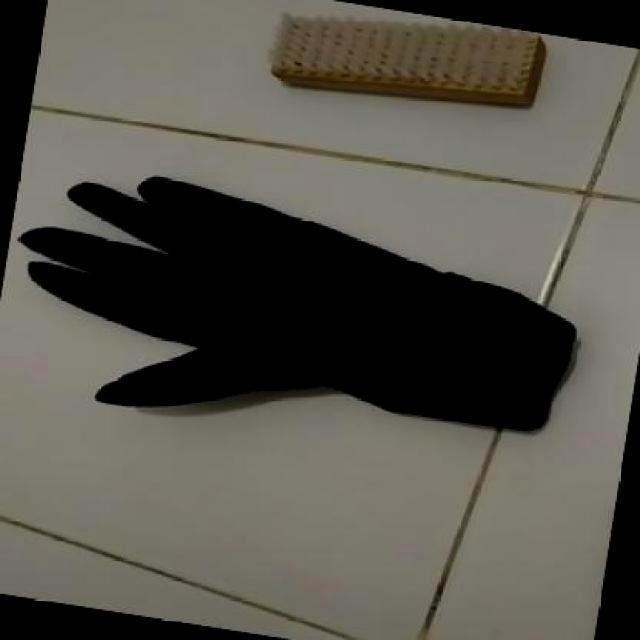Guantes: (17, 172, 579, 434)
